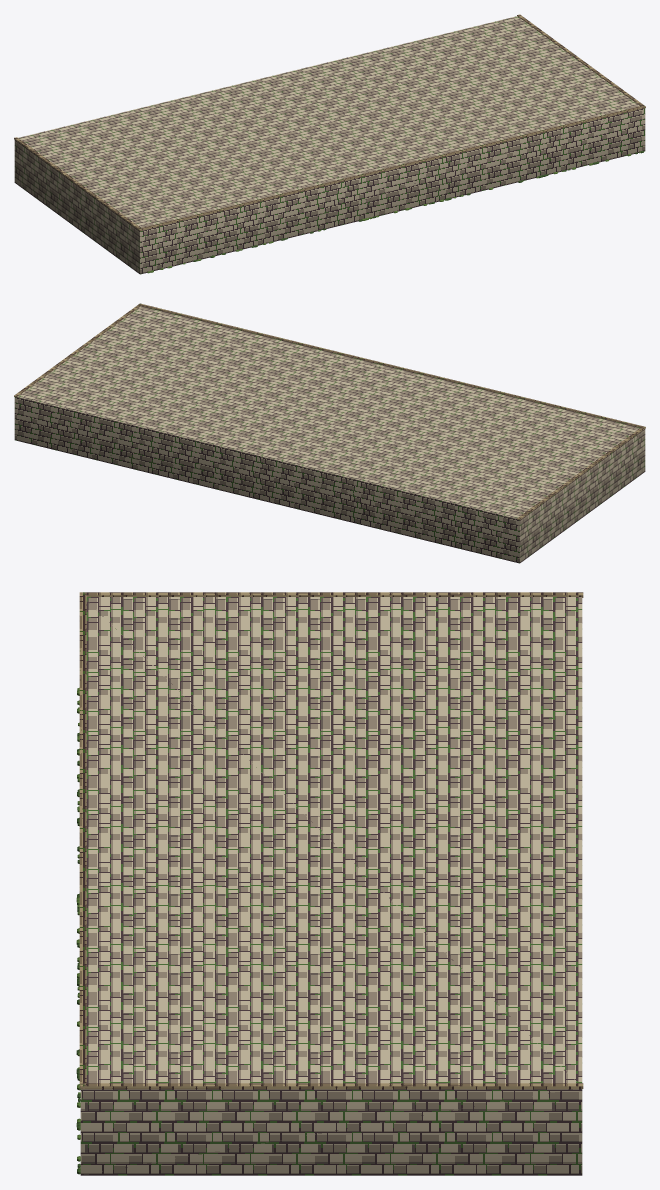
Rendered from scene_wall_n.glb.
3 views of the same model, one above another, from view 1: azimuth 30°, elevation 25°; view 2: azimuth 150°, elevation 25°; view 3: azimuth 270°, elevation 25° (orthographic). The views are drawn at different scales.
Parts seen in each view (by area): view 1: scene_wall_n; view 2: scene_wall_n; view 3: scene_wall_n.
Part boxes in pixels (x1=…): scene_wall_n: x1=14, y1=14, x2=645, y2=274; scene_wall_n: x1=14, y1=303, x2=645, y2=563; scene_wall_n: x1=76, y1=592, x2=583, y2=1175.
Bounding box in the file's own units: 60.1 × 5.17 × 26.04.
Materials: 2 (1 with a texture image).
